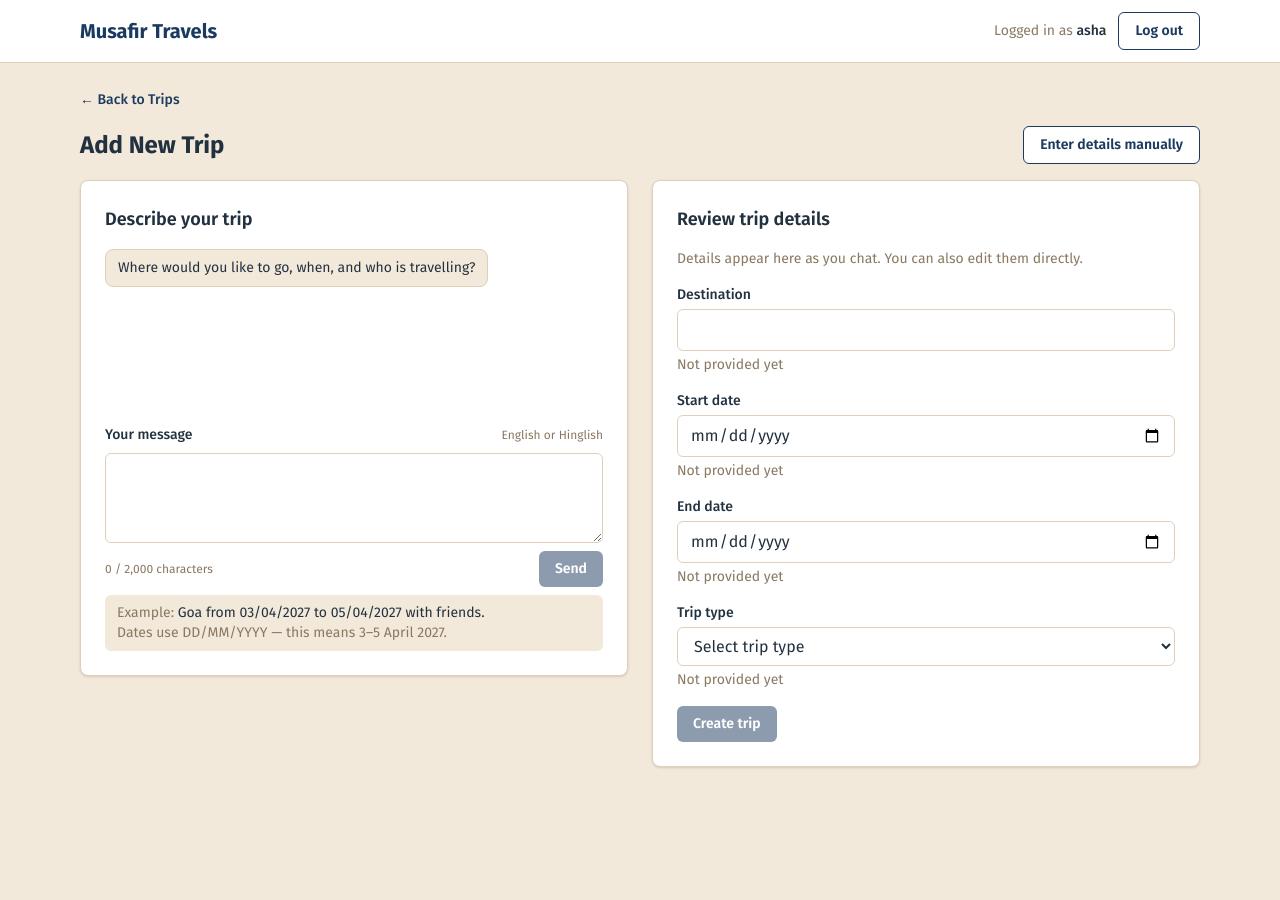
Test: TripChat — conversation and confirmation › "yes" without a pending review is sent to the AI and never creates a trip
Type "yes" into the text box labelled "Your message" at [354, 498], box x1=105 y1=453 x2=603 y2=543
Then press Enter
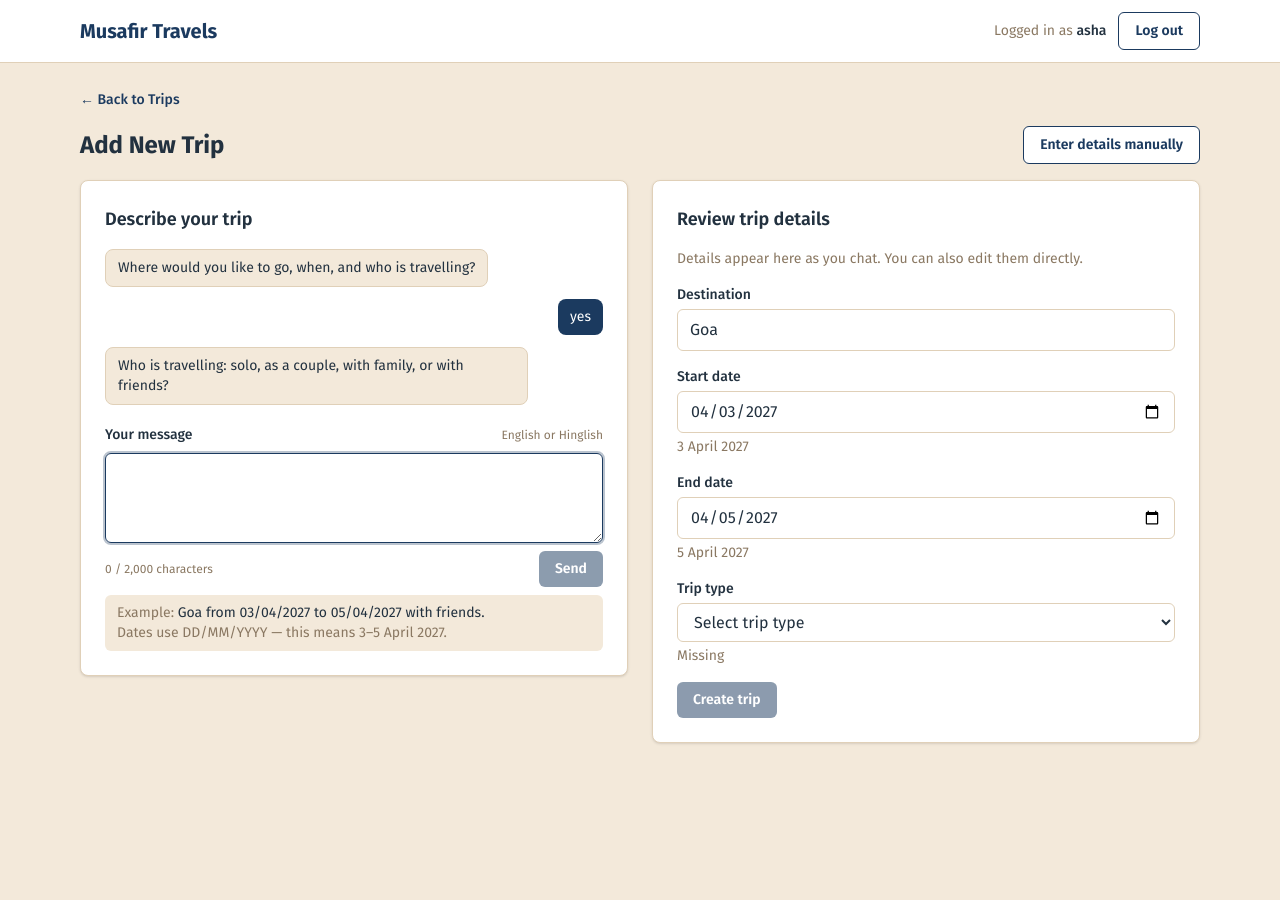
Now the text "Who is travelling: solo, as a couple, with family, or with friends?" is shown, box x1=105 y1=347 x2=528 y2=405
